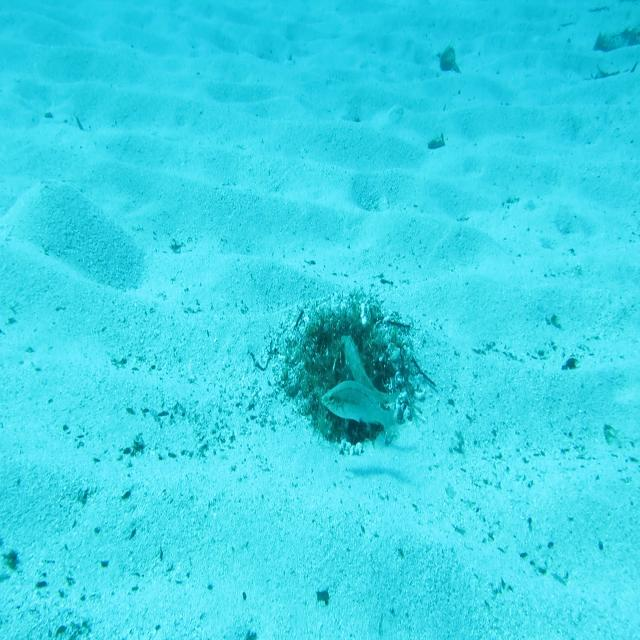FAN: (340, 334, 400, 406)
core_nest: (324, 322, 362, 357)
female: (320, 378, 404, 446)
nest: (274, 286, 428, 466)
vegetation: (585, 25, 640, 59), (438, 45, 463, 76), (427, 130, 448, 152)
